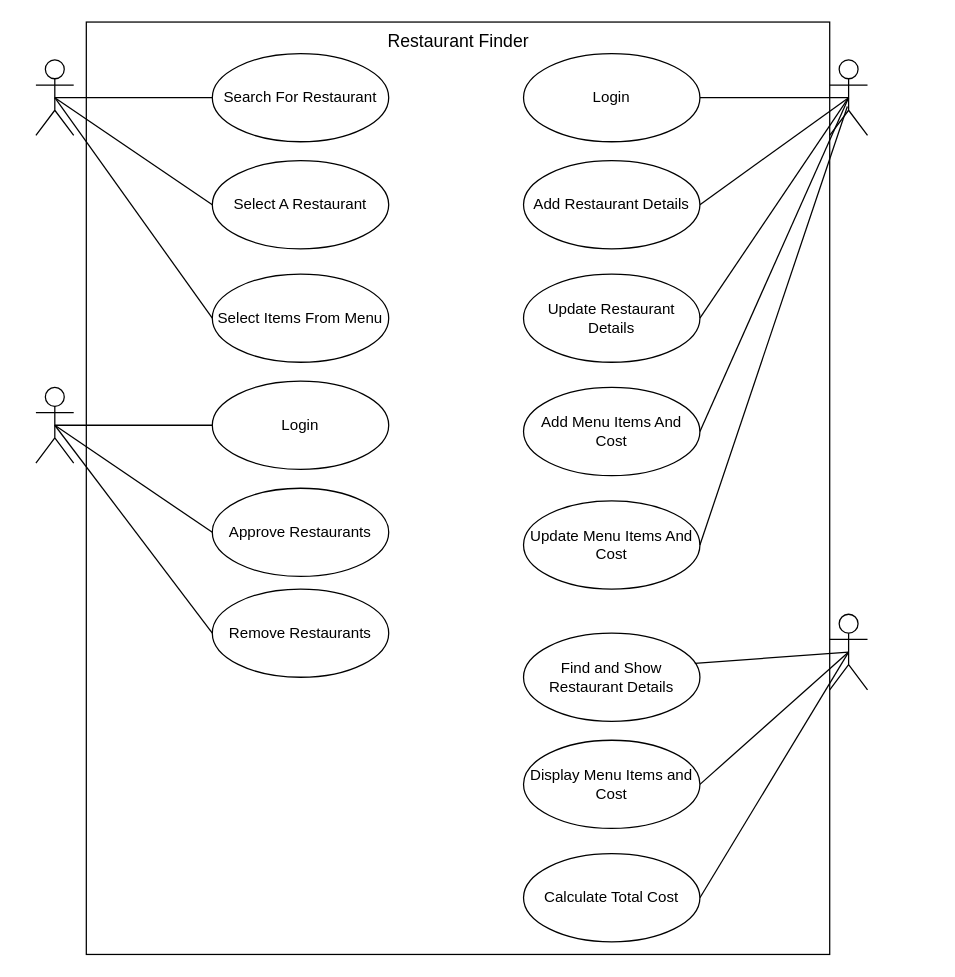
The diagram is 955 pixels wide and 977 high, and some of its shapes have lost their labels. The centre of each missing label's shape, as x and y in pixels:
Admin: the point at 54,424
Customer: the point at 54,97
Restaurant Owner: the point at 848,97
RestaurantFinder System: the point at 848,651
